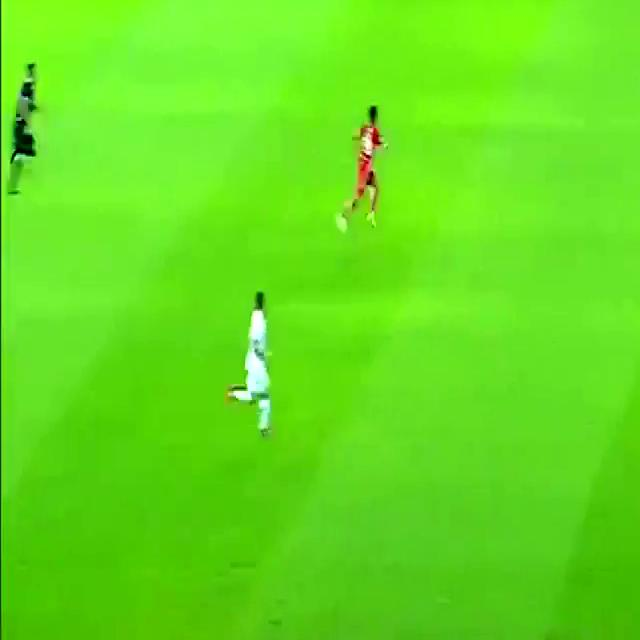referee: (0, 50, 53, 210)
soccer-player: (333, 98, 405, 242), (225, 282, 289, 440), (638, 62, 640, 198)
